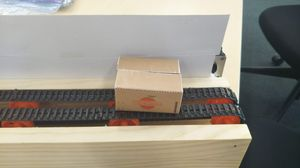box1: (114, 55, 182, 114)
